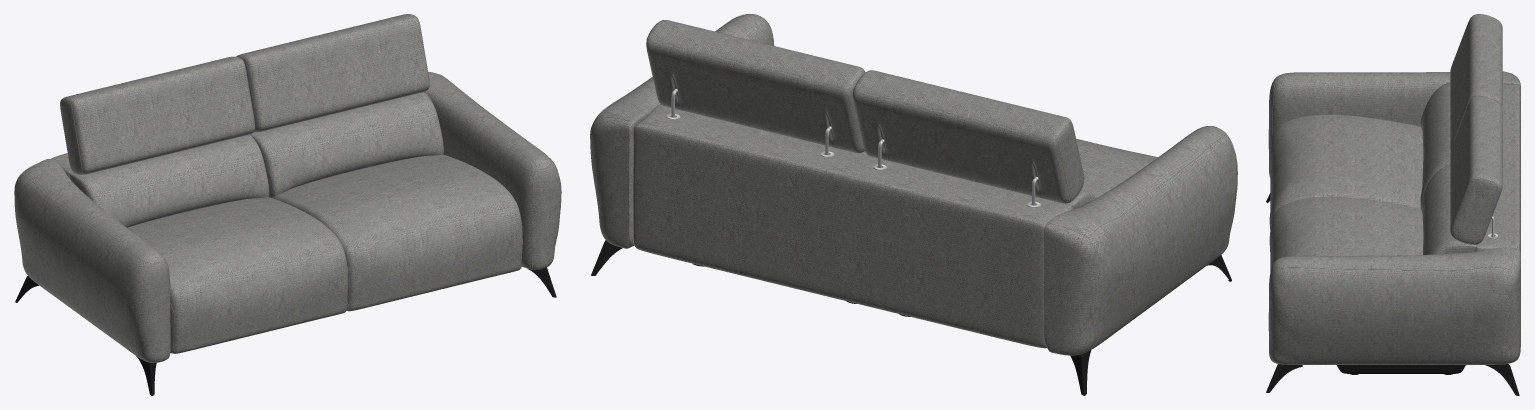
The model's file is 2arm2seats.glb.
The picture shows the model from 3 angles, left to right: view 1: azimuth 30°, elevation 25°; view 2: azimuth 150°, elevation 25°; view 3: azimuth 270°, elevation 25°; orthographic projection. The views are drawn at different scales.
Visible parts, largest first — view 1: object 21, object 30, object 37, object 8, object 10, object 3, object 13, object 35; view 2: object 4, object 37, object 8, object 10, object 35, object 30; view 3: object 35, object 30, object 21, object 37, object 10, object 8, object 4, object 3, object 13, object 20, Pé (×2), D=~ 0,00 m.
Boxes of the visible parts, x1=… form: object 21: x1=271, y1=154, x2=522, y2=311; object 30: x1=127, y1=197, x2=347, y2=353; object 37: x1=14, y1=159, x2=170, y2=362; object 8: x1=60, y1=56, x2=255, y2=174; object 10: x1=236, y1=14, x2=429, y2=132; object 3: x1=250, y1=92, x2=443, y2=197; object 13: x1=69, y1=134, x2=269, y2=227; object 35: x1=424, y1=72, x2=561, y2=269; object 4: x1=633, y1=105, x2=1072, y2=348; object 37: x1=1044, y1=126, x2=1237, y2=355; object 8: x1=853, y1=70, x2=1084, y2=203; object 10: x1=646, y1=20, x2=865, y2=153; object 35: x1=590, y1=14, x2=774, y2=248; object 30: x1=1076, y1=138, x2=1157, y2=198; object 35: x1=1268, y1=247, x2=1520, y2=364; object 30: x1=1269, y1=114, x2=1423, y2=229; object 21: x1=1269, y1=197, x2=1423, y2=271; object 37: x1=1268, y1=71, x2=1520, y2=177; object 10: x1=1450, y1=96, x2=1502, y2=244; object 8: x1=1450, y1=14, x2=1502, y2=150; object 4: x1=1474, y1=84, x2=1520, y2=253; object 3: x1=1420, y1=165, x2=1476, y2=254; object 13: x1=1420, y1=82, x2=1450, y2=202; object 20: x1=1337, y1=365, x2=1465, y2=373; Pé (×2): x1=1266, y1=364, x2=1519, y2=395; D=~ 0,00 m: x1=1273, y1=247, x2=1515, y2=270.
Size of the model in its own units: 1.93 by 0.8923 by 1.01.
Materials: 4 (2 with a texture image).
